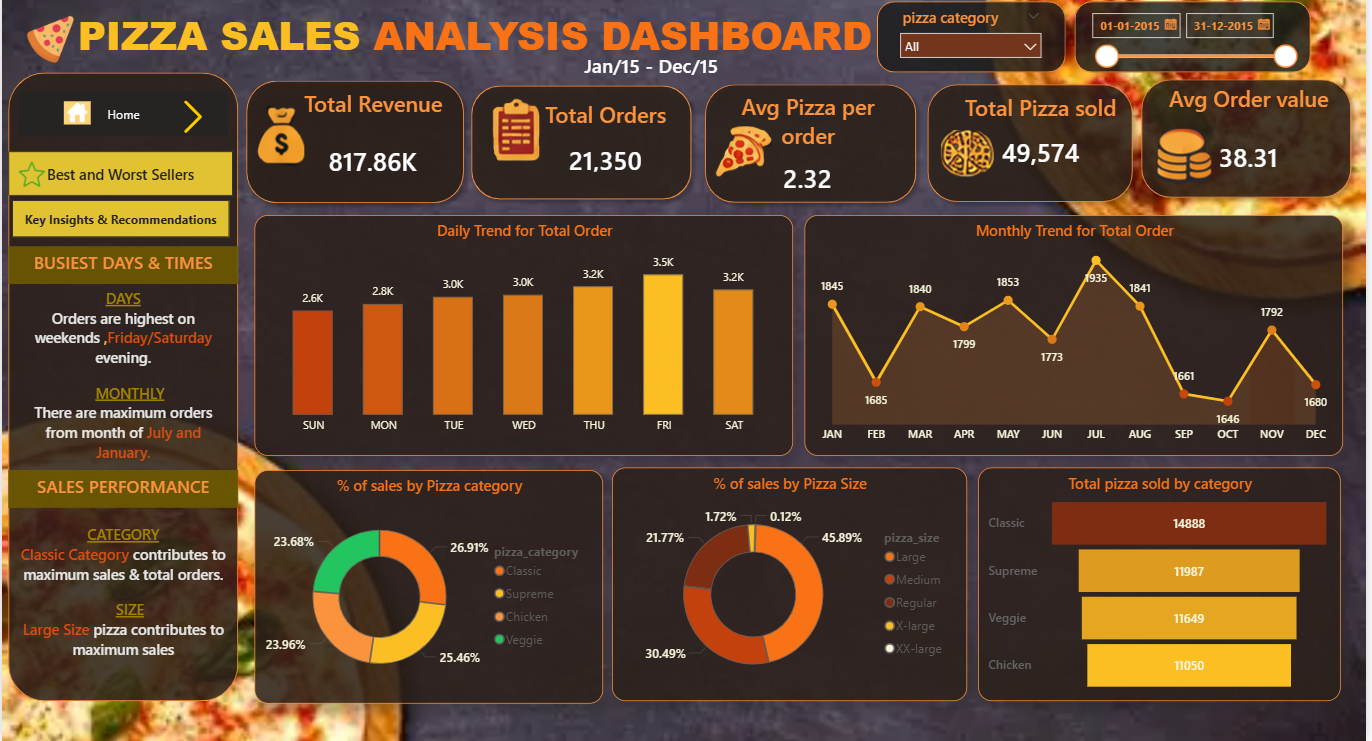

What the dashboard file says about the page in this screenshot:
{"tool":"powerbi","page":{"name":"Home","canvas":[1500,820],"ordinal":0},"visuals":[{"type":"shape","box":[1243.5,83.8,248.6,148],"z":0,"group":"g4"},{"type":"group","id":"g1","title":"Group 1","box":[259.7,85.2,256.9,152.5],"z":0},{"type":"shape","box":[259.7,85.2,256.9,152.5],"z":0,"group":"g1"},{"type":"shape","box":[764.6,89.3,250,148],"z":0,"group":"g2"},{"type":"shape","box":[1008.5,89.3,243.3,147],"z":0,"group":"g3"},{"type":"shape","box":[507,90.7,259.7,142.9],"z":0,"group":"g5"},{"type":"group","id":"g2","title":"Group 1","box":[750.2,89.3,263.8,148.4],"z":1000},{"type":"cardVisual","title":"Avg Order value","fields":{"Data":["pizza_sales pizza_sales.Total_avg_ordervalue"]},"box":[1259.2,98,224,127.8],"z":1000,"group":"g4"},{"type":"cardVisual","title":"Total Revenue ","fields":{"Data":["pizza_sales pizza_sales.Total_revenue"]},"box":[303.8,102.7,208.8,123.7],"z":1000,"group":"g1"},{"type":"cardVisual","title":"Avg Pizza per order","fields":{"Data":["pizza_sales pizza_sales.avg_pizza_per_ordered"]},"box":[795.4,105.6,181,124.3],"z":1000,"group":"g2"},{"type":"cardVisual","title":"Total Pizza sold","fields":{"Data":["pizza_sales pizza_sales.Total_pizza_sold"]},"box":[1044.5,107.1,195.1,97.6],"z":1000,"group":"g3"},{"type":"cardVisual","title":"Total Orders","fields":{"Data":["pizza_sales pizza_sales.Total_orders"]},"box":[548.5,116.1,230.8,96.7],"z":1000,"group":"g5"},{"type":"group","id":"g3","title":"Group 1","box":[1008.5,89.3,243.2,147],"z":2000},{"type":"group","id":"g4","title":"Group 1","box":[1243.5,83.8,248.7,148.4],"z":3000},{"type":"group","id":"g5","title":"Group 1","box":[507,90.7,272.4,142.9],"z":3000,"group":"g6"},{"type":"textbox","box":[78.3,8.2,960.4,81.1],"z":4000},{"type":"image","box":[280.9,110.9,52.2,86.6],"z":4004,"group":"g1"},{"type":"image","box":[529,113.8,71.4,69.3],"z":4004,"group":"g6"},{"type":"image","box":[750.2,143.7,130.5,55],"z":4006,"group":"g2"},{"type":"image","box":[1256.5,146.3,86.6,59.1],"z":4006,"group":"g4"},{"type":"image","box":[1027.7,148.1,66,53.6],"z":4006,"group":"g3"},{"type":"textbox","box":[592.2,57.7,243.2,38.5],"z":5000},{"type":"image","box":[0,22,105.8,53.6],"z":6000},{"type":"group","id":"g6","title":"Group 2","box":[507,90.7,272.1,142.9],"z":7000},{"type":"columnChart","title":"Daily Trend for Total Order","fields":{"Category":["pizza_sales pizza_sales.Order Day"],"Y":["pizza_sales pizza_sales.Total_orders"]},"box":[277.5,241.8,592.2,265.2],"z":8000},{"type":"areaChart","title":"Monthly Trend for Total Order","fields":{"Category":["pizza_sales pizza_sales.Order Month"],"Y":["pizza_sales pizza_sales.Total_orders"]},"box":[882.1,241.8,592.2,265.2],"z":9000},{"type":"donutChart","title":"% of sales by Pizza category ","fields":{"Category":["pizza_sales pizza_sales.pizza_category"],"Y":["pizza_sales pizza_sales.Total_revenue"]},"box":[277.5,522.1,383.3,256.9],"z":10000},{"type":"donutChart","title":"% of sales by Pizza Size","fields":{"Category":["pizza_sales pizza_sales.pizza_size"],"Y":["pizza_sales pizza_sales.Total_revenue"]},"box":[670.5,519.4,390.2,256.9],"z":11000},{"type":"shape","box":[6.9,85.2,252.8,691.1],"z":12000},{"type":"funnel","title":"Total pizza sold by category","fields":{"Category":["pizza_sales pizza_sales.pizza_category"],"Y":["pizza_sales pizza_sales.Total_pizza_sold"]},"box":[1073.1,519.4,398.5,256.9],"z":13000},{"type":"textbox","box":[6.9,276.2,252.8,41.2],"z":14000},{"type":"textbox","box":[13.7,317.4,239.1,202],"z":15000},{"type":"textbox","box":[6.9,522.1,252.8,41.2],"z":16000},{"type":"textbox","box":[13.7,577.1,239.1,202],"z":17000},{"type":"shape","box":[961.8,6.9,207.5,78.3],"z":18000},{"type":"slicer","fields":{"Values":["pizza_sales pizza_sales.pizza_category"]},"box":[976.9,8.2,175.9,72.8],"z":19000},{"type":"shape","box":[1178.9,6.9,259.7,78.3],"z":20000},{"type":"slicer","fields":{"Values":["pizza_sales pizza_sales.order_date"]},"box":[1185.4,10.1,246,81.1],"z":21000},{"type":"pageNavigator","box":[19.3,106.1,230,49.9],"z":22000},{"type":"pageNavigator","box":[6.4,172.1,247.6,49.9],"z":23000},{"type":"image","box":[186.5,115.8,46.6,37],"z":24000},{"type":"image","box":[0,183.3,65.9,28.9],"z":25000},{"type":"image","box":[33.8,117.4,96.5,25.7],"z":26000},{"type":"pageNavigator","box":[11,225.3,239.1,41.2],"z":26001}]}

Visuals, with their boxes in screenshot pixels (x1, y1, x2, y2), scaled from the page's 1500x820 canvas onto the 1372x741 screenshot:
shape: x1=1137 y1=76 x2=1365 y2=209
"Group 1" group: x1=238 y1=77 x2=473 y2=215
shape: x1=238 y1=77 x2=473 y2=215
shape: x1=699 y1=81 x2=928 y2=214
shape: x1=922 y1=81 x2=1145 y2=214
shape: x1=464 y1=82 x2=701 y2=211
"Group 1" group: x1=686 y1=81 x2=927 y2=215
"Avg Order value" cardVisual: x1=1152 y1=89 x2=1357 y2=204
"Total Revenue " cardVisual: x1=278 y1=93 x2=469 y2=205
"Avg Pizza per order" cardVisual: x1=728 y1=95 x2=893 y2=208
"Total Pizza sold" cardVisual: x1=955 y1=97 x2=1134 y2=185
"Total Orders" cardVisual: x1=502 y1=105 x2=713 y2=192
"Group 1" group: x1=922 y1=81 x2=1145 y2=214
"Group 1" group: x1=1137 y1=76 x2=1365 y2=210
"Group 1" group: x1=464 y1=82 x2=713 y2=211
textbox: x1=72 y1=7 x2=950 y2=81
image: x1=257 y1=100 x2=305 y2=178
image: x1=484 y1=103 x2=549 y2=165
image: x1=686 y1=130 x2=806 y2=180
image: x1=1149 y1=132 x2=1228 y2=186
image: x1=940 y1=134 x2=1000 y2=182
textbox: x1=542 y1=52 x2=764 y2=87
image: x1=0 y1=20 x2=97 y2=68
"Group 2" group: x1=464 y1=82 x2=713 y2=211
"Daily Trend for Total Order" columnChart: x1=254 y1=219 x2=795 y2=458
"Monthly Trend for Total Order" areaChart: x1=807 y1=219 x2=1348 y2=458
"% of sales by Pizza category " donutChart: x1=254 y1=472 x2=604 y2=704
"% of sales by Pizza Size" donutChart: x1=613 y1=469 x2=970 y2=702
shape: x1=6 y1=77 x2=238 y2=702
"Total pizza sold by category" funnel: x1=982 y1=469 x2=1346 y2=702
textbox: x1=6 y1=250 x2=238 y2=287
textbox: x1=13 y1=287 x2=231 y2=469
textbox: x1=6 y1=472 x2=238 y2=509
textbox: x1=13 y1=522 x2=231 y2=704
shape: x1=880 y1=6 x2=1070 y2=77
slicer - pizza_sales pizza_sales.pizza_category: x1=894 y1=7 x2=1054 y2=73
shape: x1=1078 y1=6 x2=1316 y2=77
slicer - pizza_sales pizza_sales.order_date: x1=1084 y1=9 x2=1309 y2=82
pageNavigator: x1=18 y1=96 x2=228 y2=141
pageNavigator: x1=6 y1=156 x2=232 y2=201
image: x1=171 y1=105 x2=213 y2=138
image: x1=0 y1=166 x2=60 y2=192
image: x1=31 y1=106 x2=119 y2=129
pageNavigator: x1=10 y1=204 x2=229 y2=241
